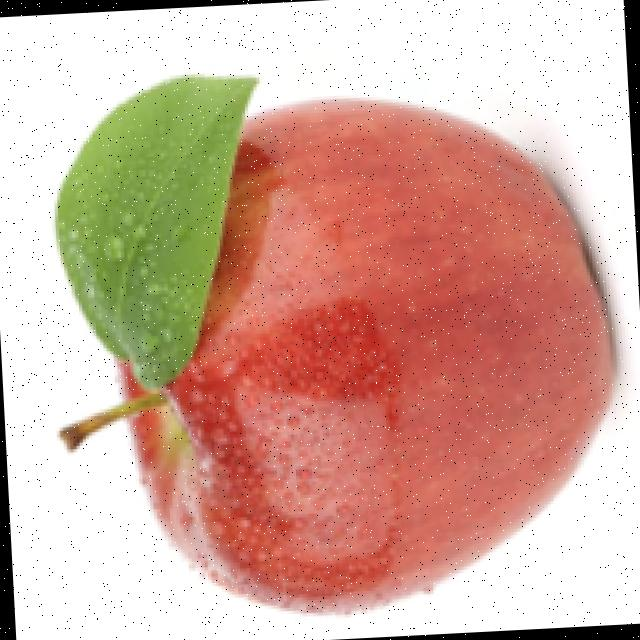apple: (48, 70, 638, 621)
